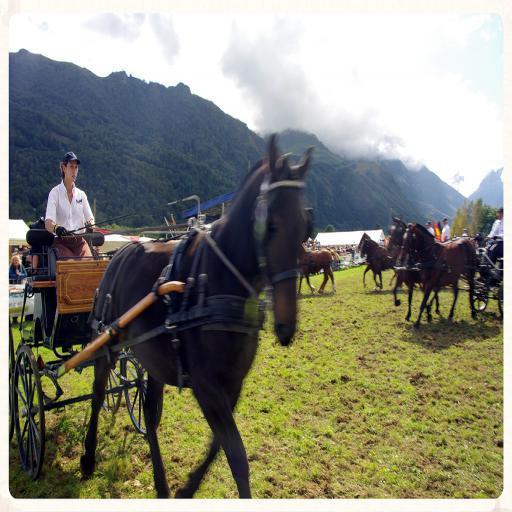horse: (80, 131, 316, 497), (394, 220, 482, 328), (386, 210, 453, 323), (294, 240, 340, 294), (360, 236, 396, 292)
